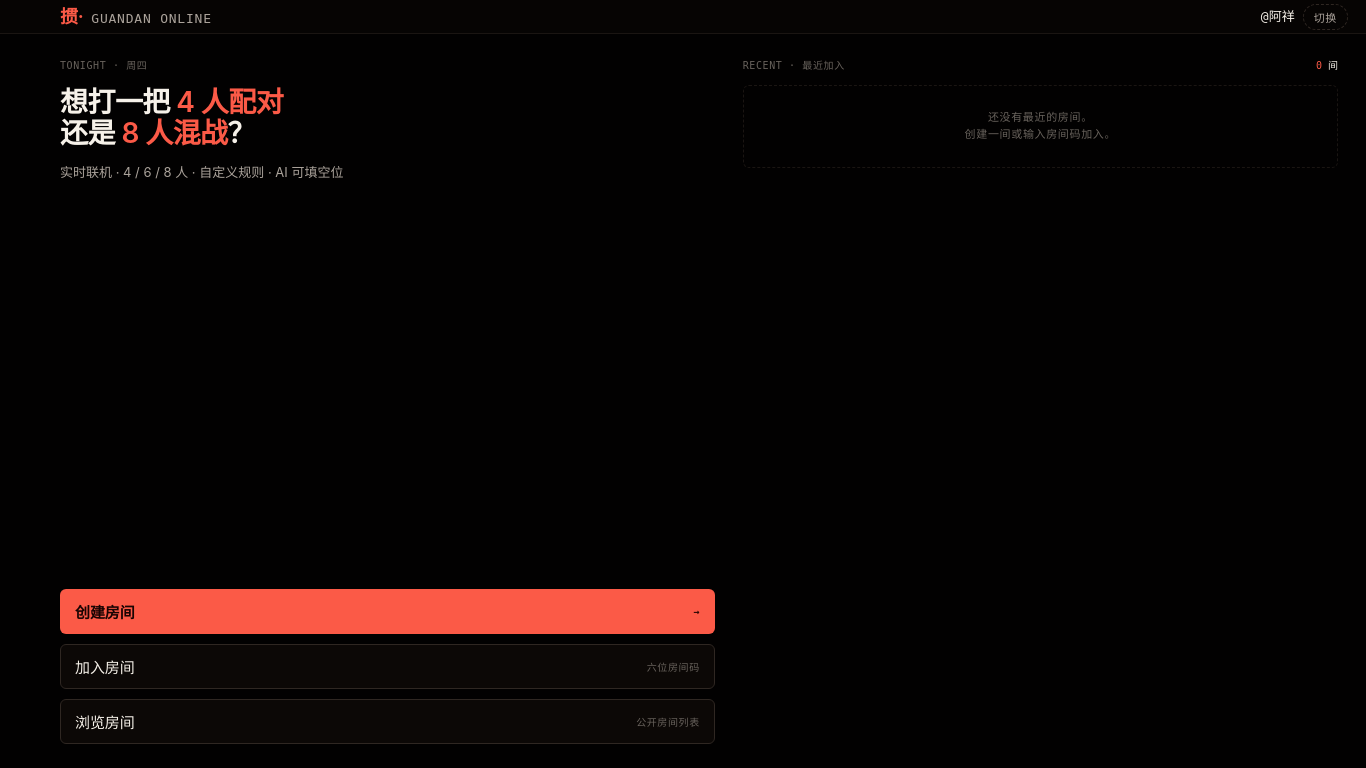
Scenario: Landing › surfaces room_not_found as 中文 error
Click the button "加入房间 六位房间码". click: (105, 668)
box: [60, 644, 715, 689]
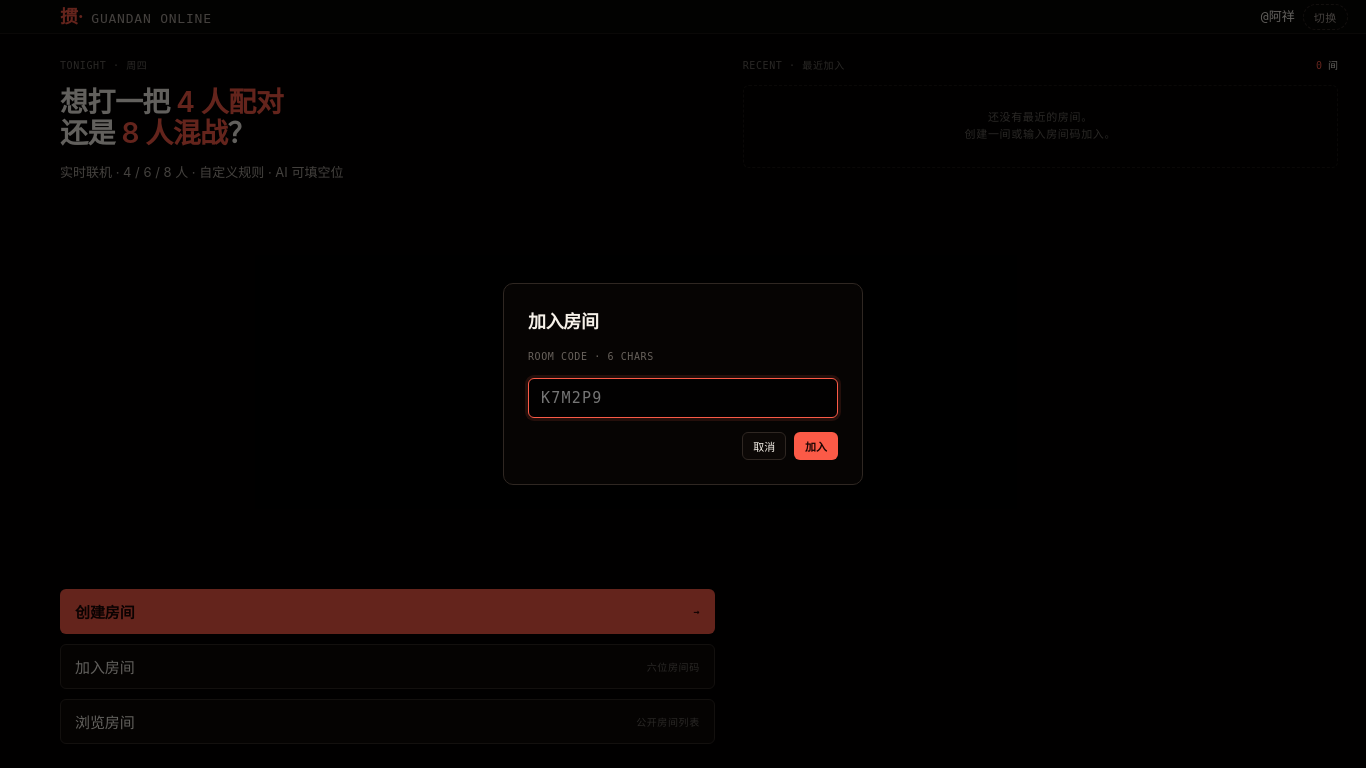
Type "AAAAAA" into the field named "room code". click: (683, 398)
box: [528, 378, 838, 418]
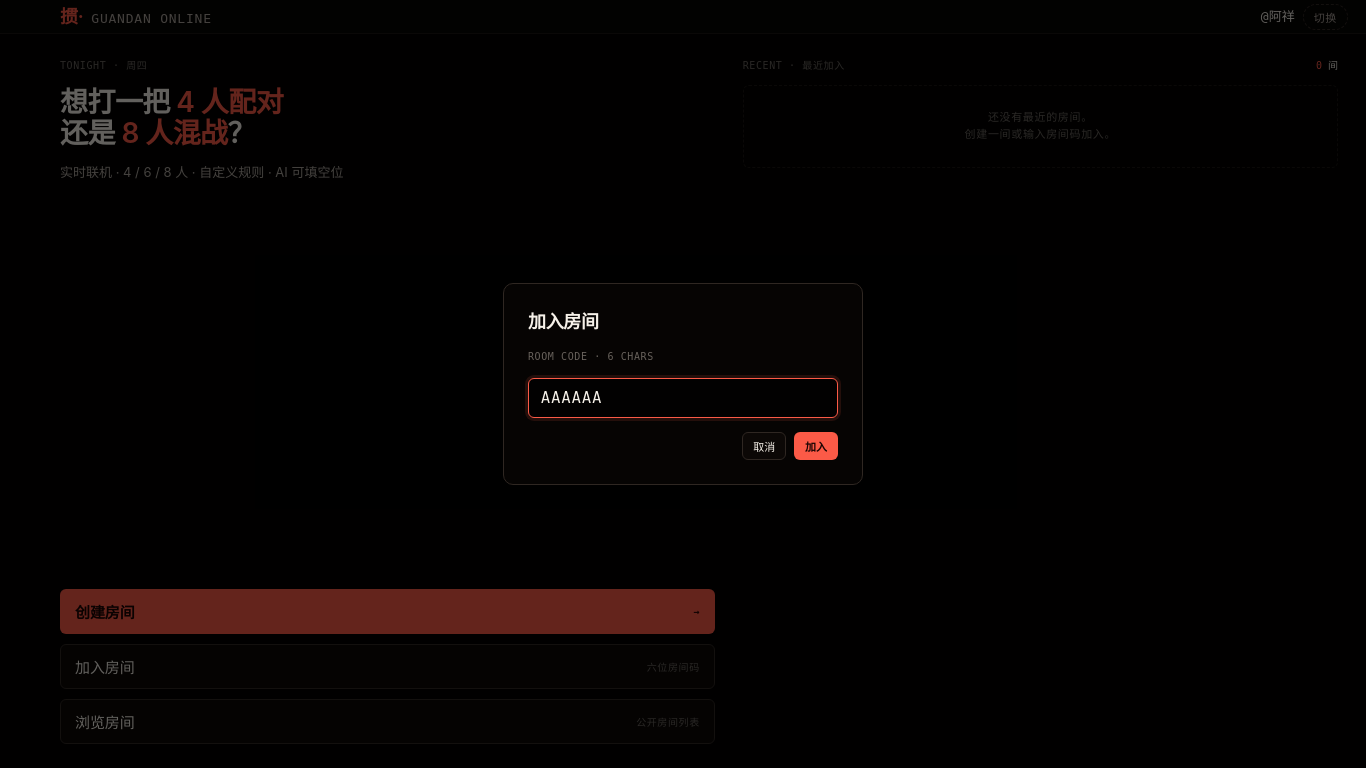
Click the button "加入". click: (816, 446)
box: [794, 432, 838, 460]
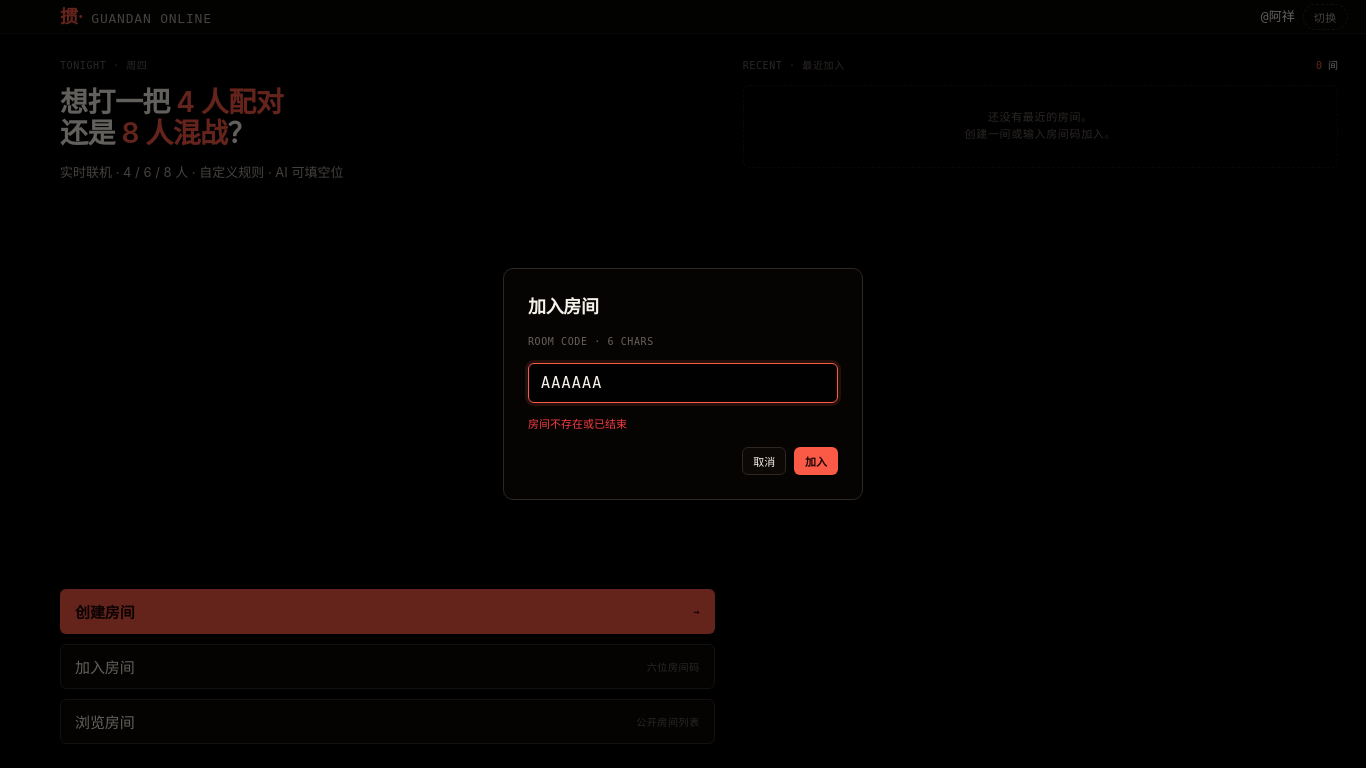
Now the text "房间不存在或已结束" is shown, box [528, 418, 627, 431]
